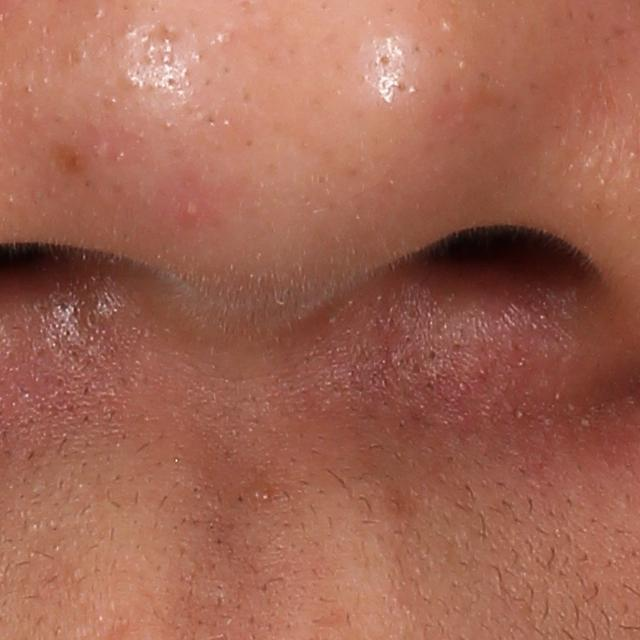pustule: (179, 190, 216, 230)
